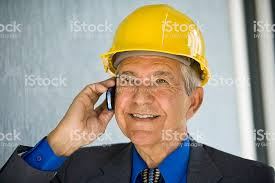Person_wearing_helmet: (94, 3, 210, 89)
